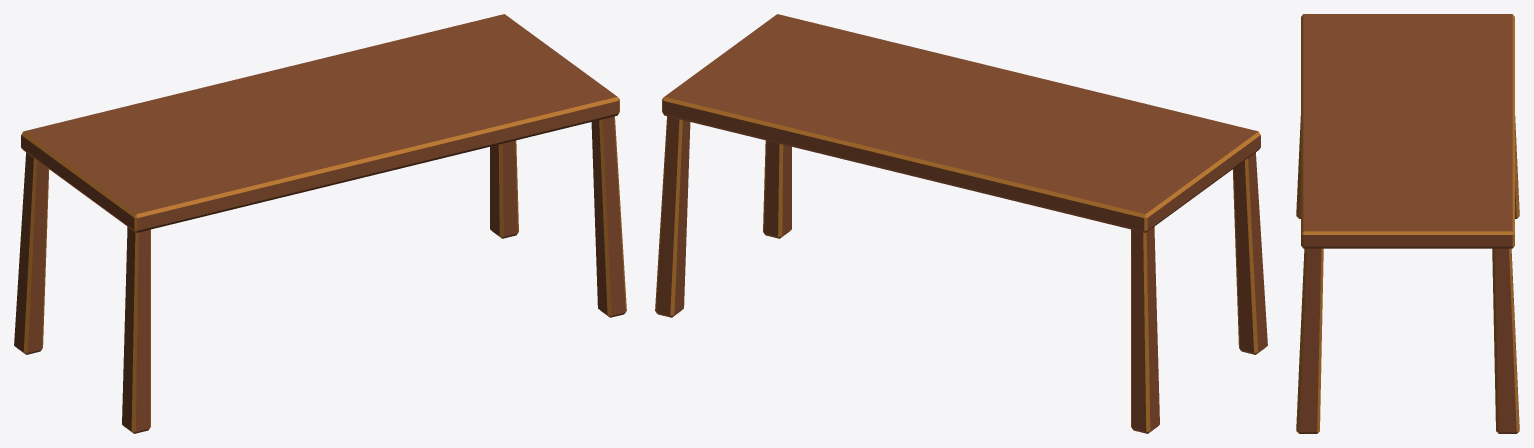
The model's file is TableDiningRoom.fbx.
The picture shows the model from 3 angles, left to right: view 1: azimuth 30°, elevation 25°; view 2: azimuth 150°, elevation 25°; view 3: azimuth 270°, elevation 25°; orthographic projection. The views are drawn at different scales.
Parts seen in each view (by area): view 1: TableDiningRoom; view 2: TableDiningRoom; view 3: TableDiningRoom.
Part boxes in pixels (x1,y1,x2,y2): TableDiningRoom: (14,14,626,433); TableDiningRoom: (655,14,1267,433); TableDiningRoom: (1296,14,1519,433).
Size of the model in its own units: 185 by 77.28 by 77.81.
